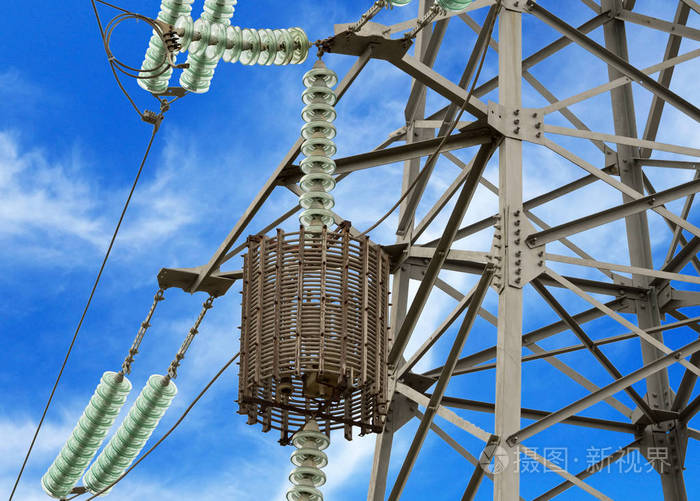insulator: (90, 370, 175, 496), (42, 372, 126, 496), (299, 68, 336, 226), (172, 23, 311, 62), (177, 1, 234, 94), (136, 1, 192, 95), (284, 427, 332, 501)
